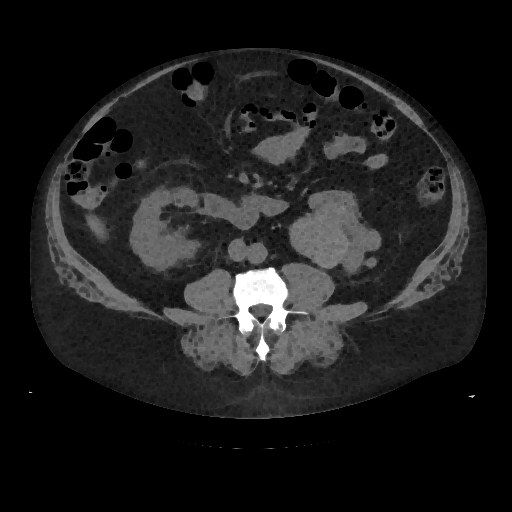Lesion: (290, 217, 349, 270)
